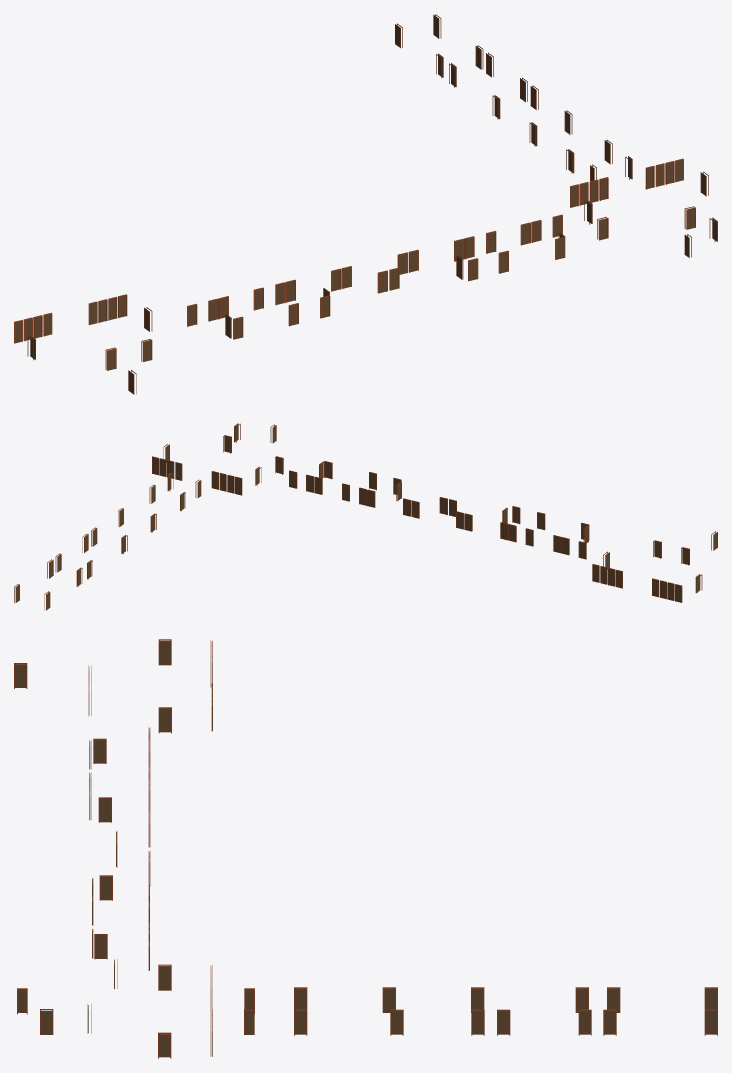
File: insaat_revit.ifc.ifc.ifc_102.5 Derslik (B) + Geo Bölüm Başkanlığı_IfcDoor.dae
3 renders of one model, top to bottom at view 1: azimuth 30°, elevation 25°; view 2: azimuth 150°, elevation 25°; view 3: azimuth 270°, elevation 25°, orthographic. The views are drawn at different scales.
Bounding box in the file's own units: 72.84 × 54.89 × 2.21.
